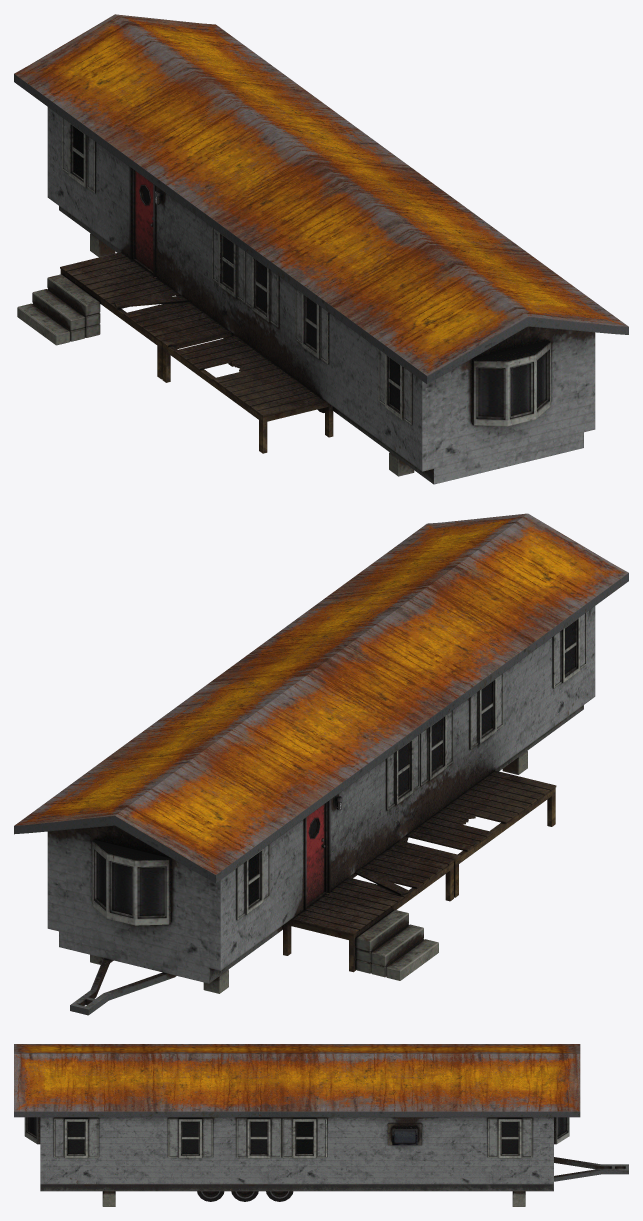
File: jason_moore_double_wide_V3_sketchfab.obj
3 views of the same model, one above another, from view 1: azimuth 30°, elevation 25°; view 2: azimuth 150°, elevation 25°; view 3: azimuth 270°, elevation 25° (orthographic). The views are drawn at different scales.
Parts seen in each view (by area): view 1: MAIN, WIND, DECK_TOP, DECK_TOP2, END_WIND, STAIR, DECK_FRM2, DECK_FRM, JACK; view 2: MAIN, WIND, DECK_TOP, END_WIND, DECK_TOP2, STAIR, DECK_FRM, HITCH, DECK_FRM2, JACK; view 3: MAIN, WIND, HITCH, END_WIND, WHEEL, JACK.
Part boxes in pixels (x1=…): MAIN: x1=14, y1=14, x2=628, y2=484; WIND: x1=62, y1=117, x2=412, y2=425; DECK_TOP: x1=60, y1=252, x2=222, y2=342; DECK_TOP2: x1=161, y1=326, x2=325, y2=416; END_WIND: x1=472, y1=340, x2=550, y2=426; STAIR: x1=17, y1=274, x2=100, y2=345; DECK_FRM2: x1=162, y1=331, x2=333, y2=453; DECK_FRM: x1=60, y1=269, x2=228, y2=379; JACK: x1=90, y1=233, x2=414, y2=476; MAIN: x1=14, y1=513, x2=628, y2=983; WIND: x1=236, y1=612, x2=586, y2=920; DECK_TOP: x1=290, y1=845, x2=454, y2=935; END_WIND: x1=92, y1=839, x2=170, y2=925; DECK_TOP2: x1=393, y1=770, x2=556, y2=860; STAIR: x1=356, y1=910, x2=438, y2=980; DECK_FRM: x1=283, y1=862, x2=453, y2=972; HITCH: x1=70, y1=958, x2=176, y2=1015; DECK_FRM2: x1=399, y1=788, x2=555, y2=897; JACK: x1=90, y1=751, x2=527, y2=993; MAIN: x1=14, y1=1044, x2=580, y2=1191; WIND: x1=54, y1=1118, x2=532, y2=1158; HITCH: x1=554, y1=1157, x2=628, y2=1181; END_WIND: x1=24, y1=1117, x2=569, y2=1144; WHEEL: x1=197, y1=1191, x2=293, y2=1201; JACK: x1=102, y1=1191, x2=525, y2=1206.
Size of the model in its own units: 203 by 127 by 539.
